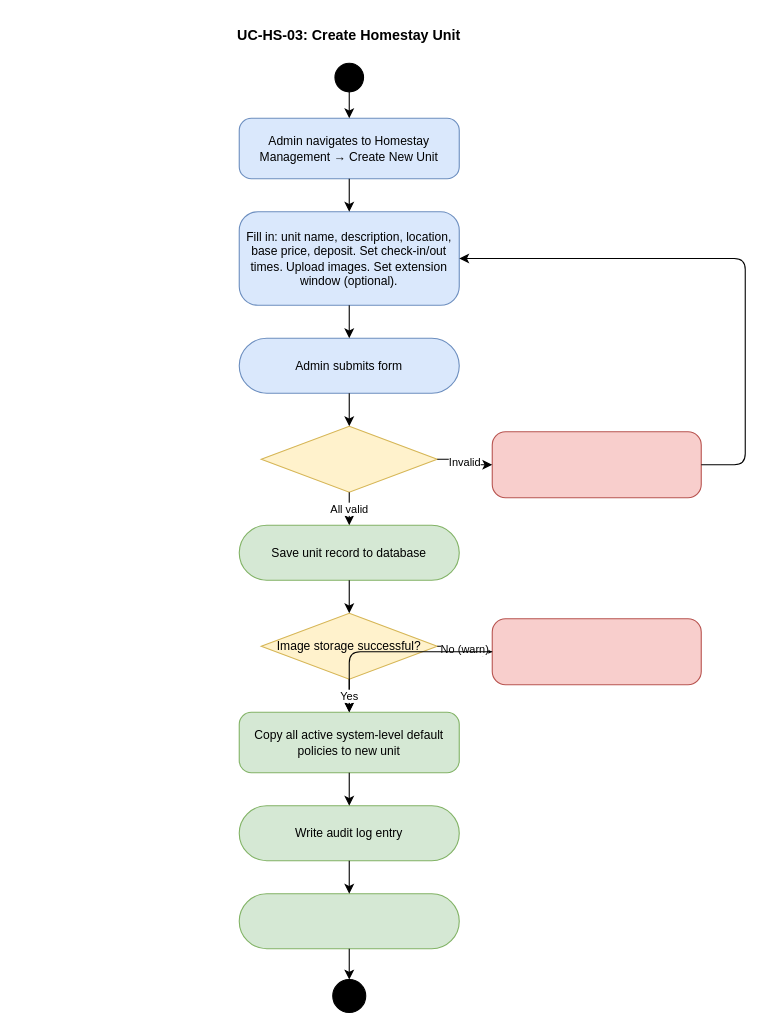
This 773x1032 diagram has some shape labels left out. The box of each missing label's shape, as (x1, y1, x2, y2) in pixels:
Display success — unit visible on guest listing: (238, 893, 459, 949)
Display warning: image upload failed. Admin can retry via Edit.: (491, 618, 701, 685)
Highlight missing / invalid fields (required missing, invalid image format): (491, 431, 701, 498)
Validate all fields: (260, 425, 437, 492)
